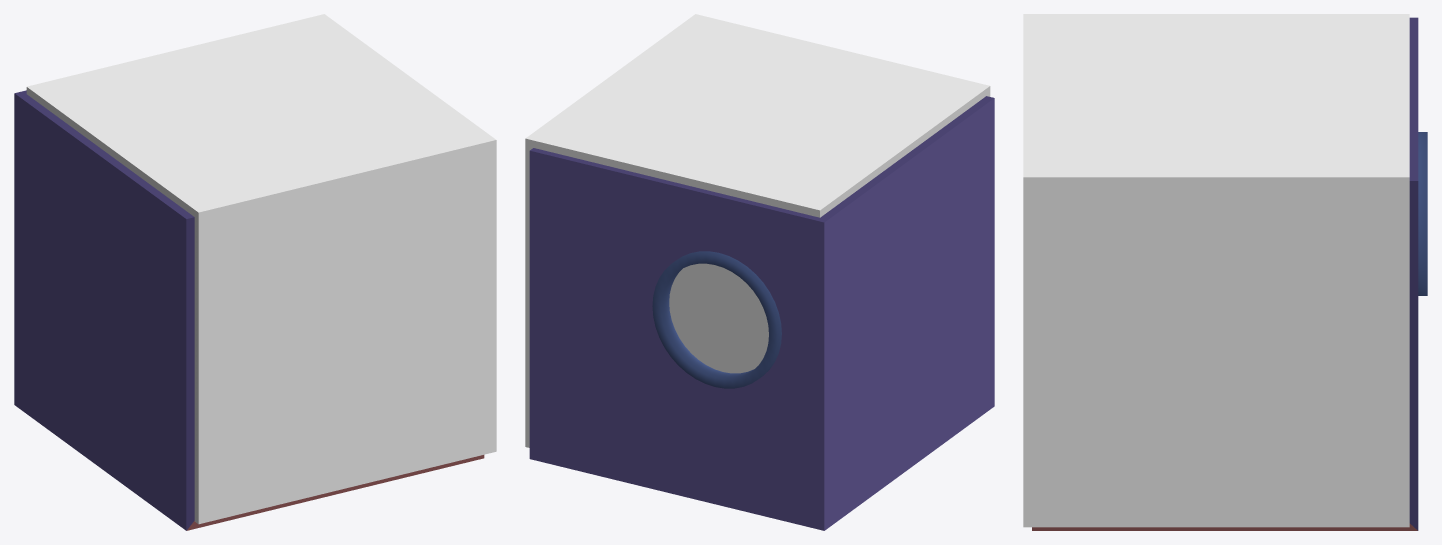
Rendered from 3droom.glb.
3 renders of one model, left to right at view 1: azimuth 30°, elevation 25°; view 2: azimuth 150°, elevation 25°; view 3: azimuth 270°, elevation 25°, orthographic. The views are drawn at different scales.
Parts seen in each view (by area): view 1: Cube.044, Cube; view 2: Cube, Cube.044, Cylinder.047; view 3: Cube.044, Cube, Cylinder.047.
Boxes of the visible parts, bbox=[...] form: Cube.044: bbox=[26, 14, 496, 524]; Cube: bbox=[14, 90, 484, 530]; Cube: bbox=[529, 96, 994, 530]; Cube.044: bbox=[525, 14, 990, 447]; Cylinder.047: bbox=[652, 251, 781, 388]; Cube.044: bbox=[1023, 14, 1409, 527]; Cube: bbox=[1032, 17, 1418, 530]; Cylinder.047: bbox=[1418, 132, 1427, 295].
Bounding box in the file's own units: 2.06 × 2.05 × 2.09.
